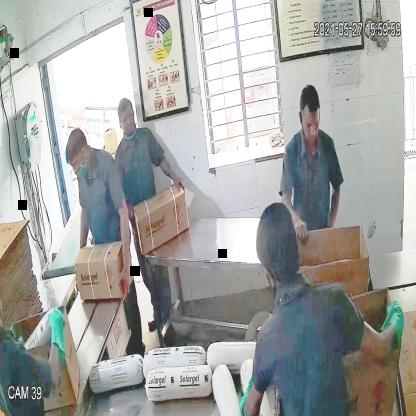no_goggles: (297, 113, 322, 134)
